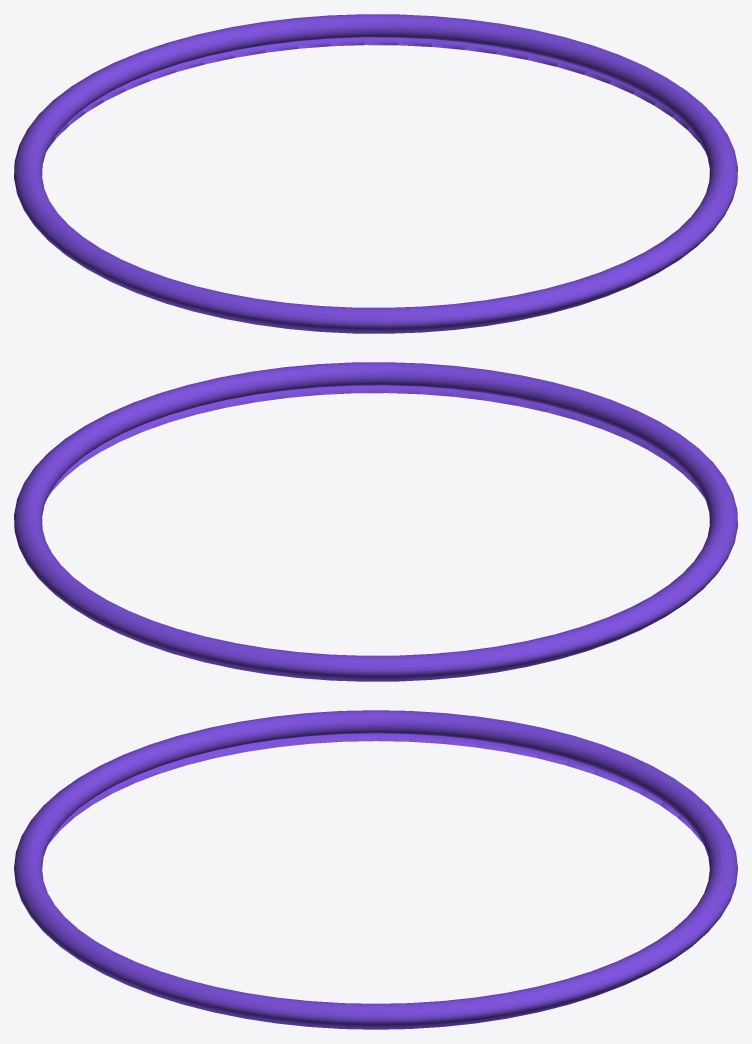
The model's file is ring2.fbx.
3 views of the same model, one above another, from view 1: azimuth 30°, elevation 25°; view 2: azimuth 150°, elevation 25°; view 3: azimuth 270°, elevation 25° (orthographic).
Visible parts, largest first — view 1: ring2; view 2: ring2; view 3: ring2.
Part boxes in pixels (box(x1,y1,x2,y2)): ring2: box(14, 14, 737, 333); ring2: box(14, 362, 737, 681); ring2: box(14, 710, 737, 1029).
Bounding box in the file's own units: 166 × 6.86 × 166.
